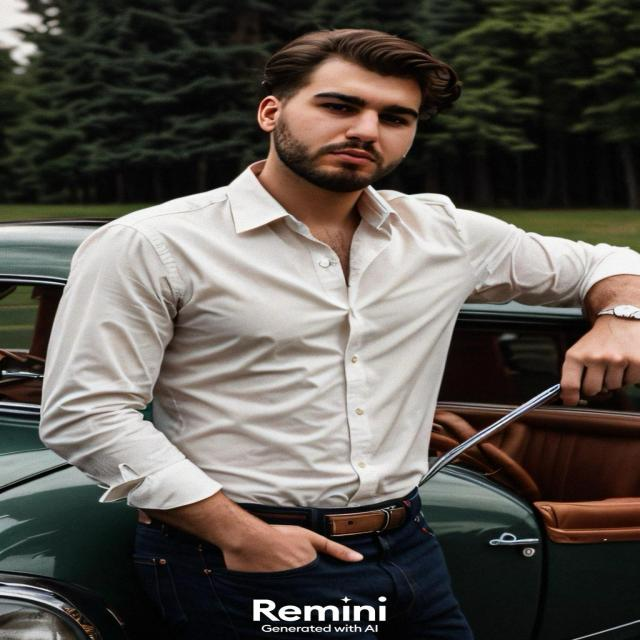Sero: (250, 31, 441, 200)
